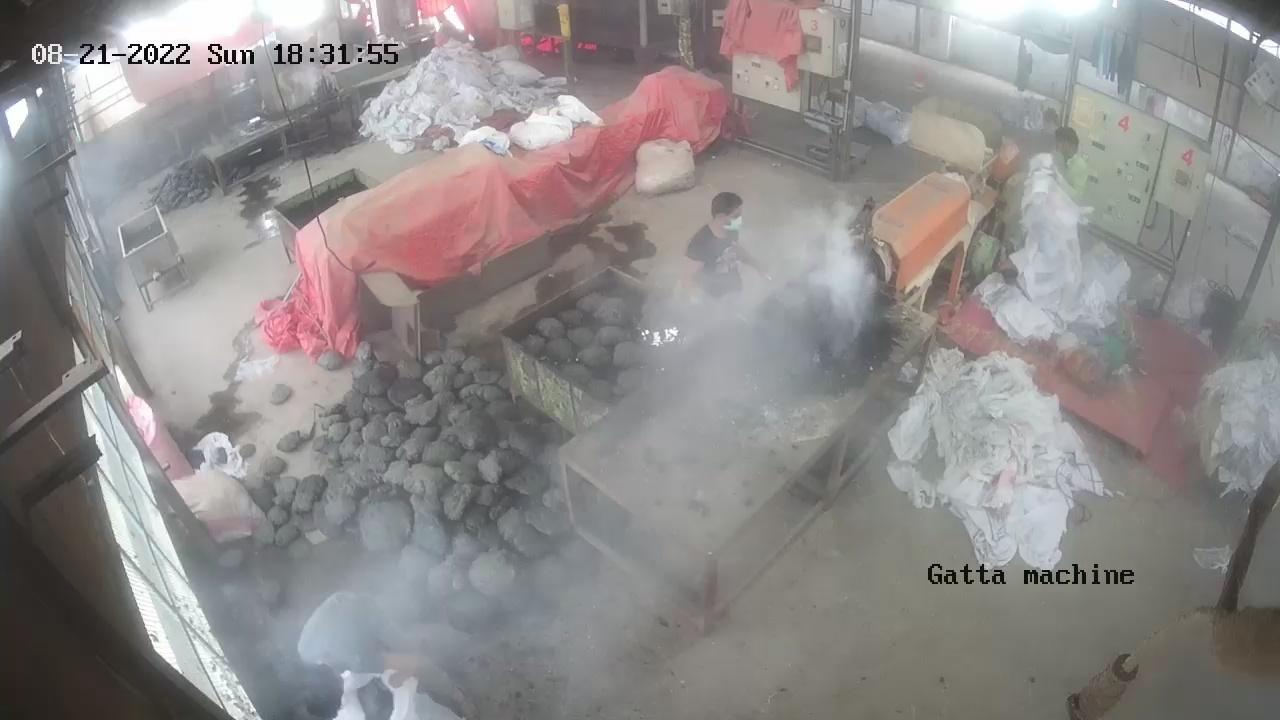person: (691, 188, 762, 307), (1054, 121, 1093, 199)
